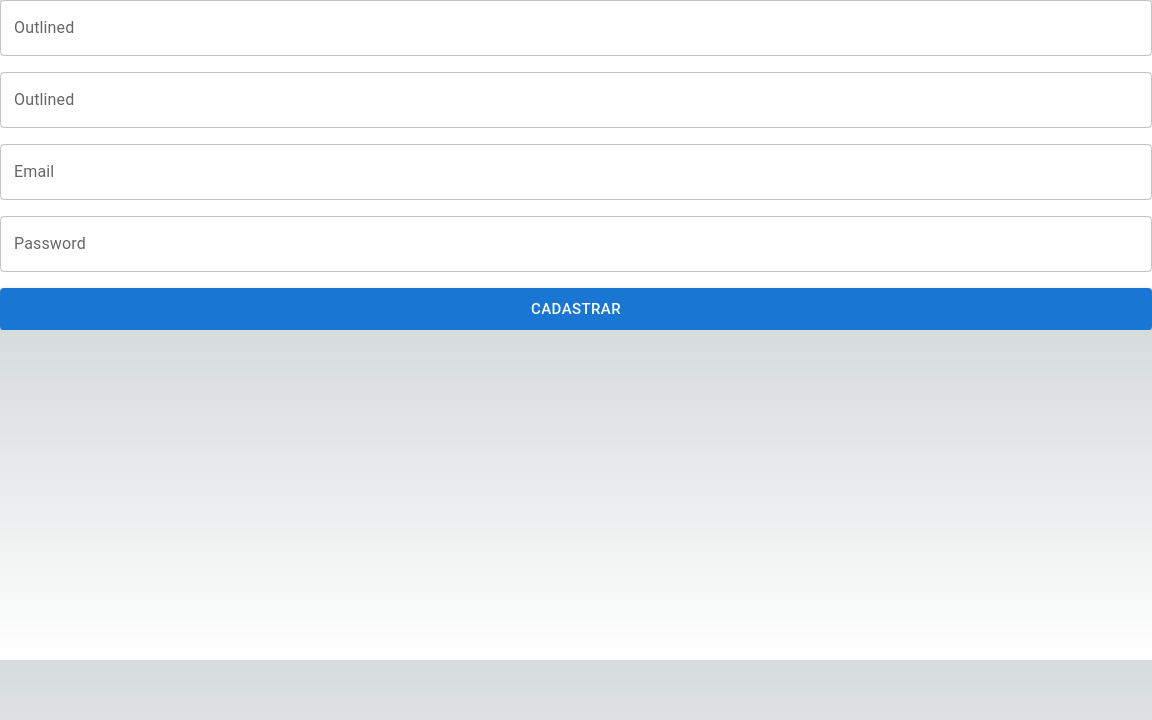
Scenario: <FormComponent /> › checks if email field renders the invalid email message
The width and height of the screenshot is (1152, 720).
In the field labelled "Email": (576, 172) x1=0 y1=144 x2=1151 y2=200, type "teste"
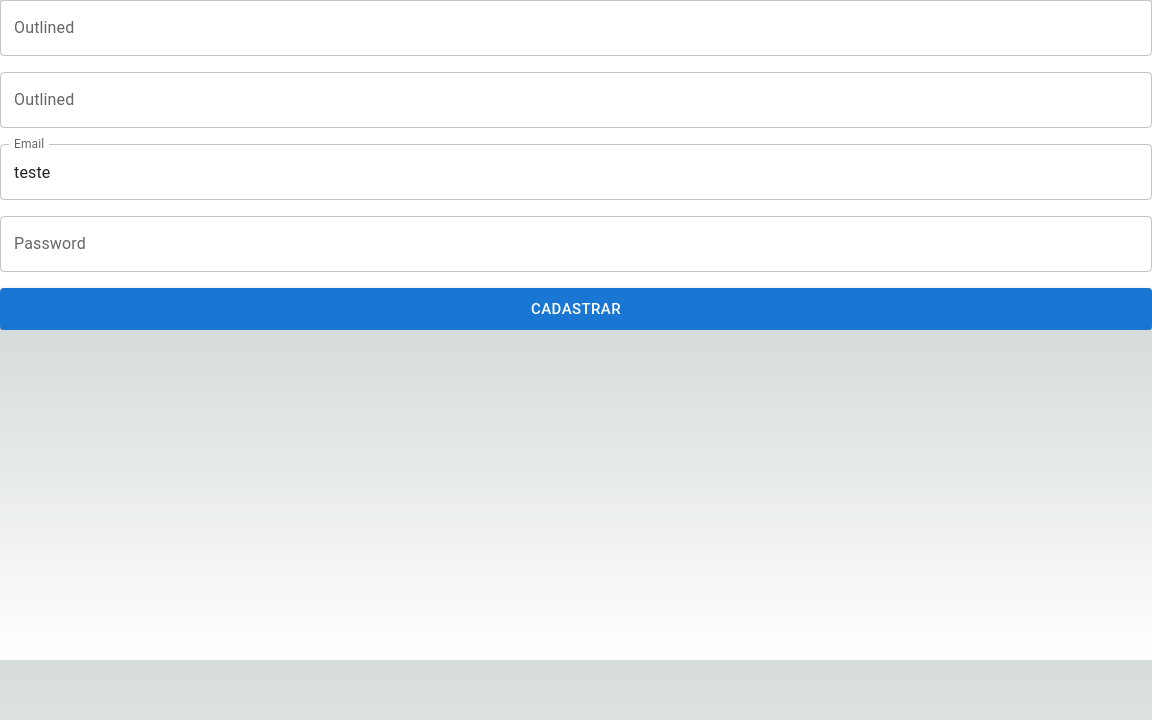
Click the button: (576, 309) x1=0 y1=288 x2=1151 y2=330
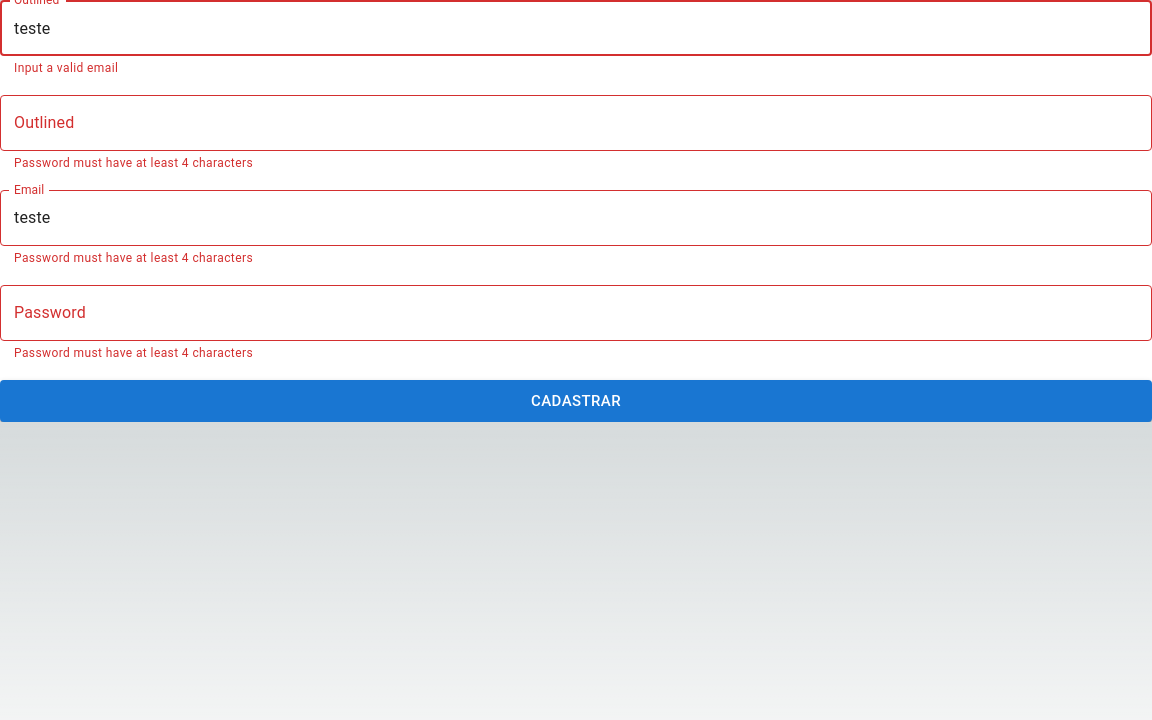
Expected: the text "Input a valid email" is shown, x1=14 y1=61 x2=118 y2=75
